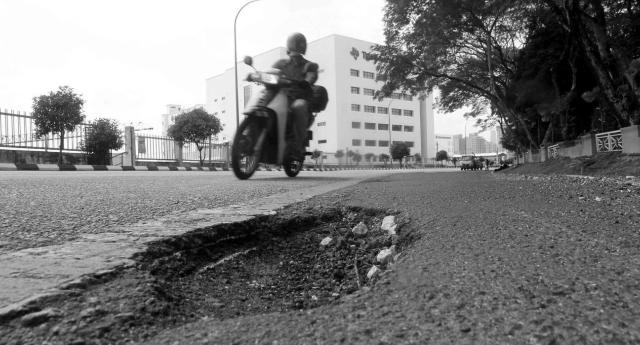Pothole: (99, 204, 423, 345)
